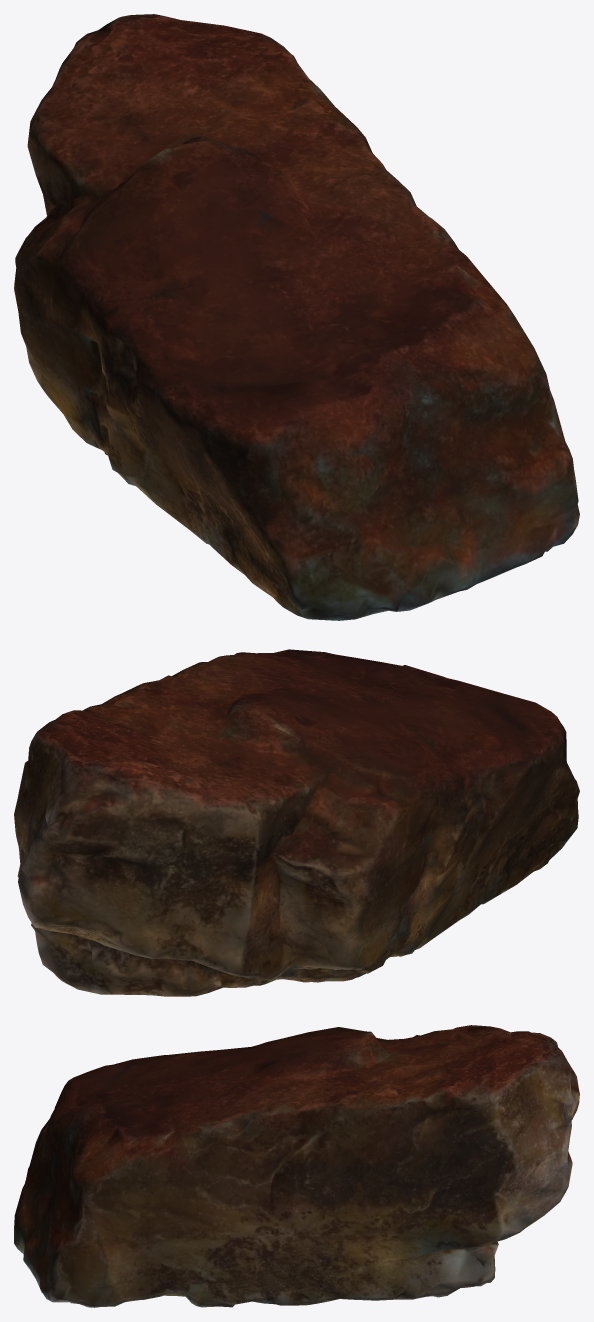
The model's file is rock_07_lod.glb.
The picture shows the model from 3 angles, top to bottom: view 1: azimuth 30°, elevation 25°; view 2: azimuth 150°, elevation 25°; view 3: azimuth 270°, elevation 25°; orthographic projection. The views are drawn at different scales.
Parts seen in each view (by area): view 1: rock_07; view 2: rock_07; view 3: rock_07.
Part boxes in pixels (<box>): rock_07: <box>14,14,579,620</box>; rock_07: <box>14,649,579,996</box>; rock_07: <box>14,1025,579,1307</box>.
Bounding box in the file's own units: 0.1686 × 0.1437 × 0.3199.
1 material, 1 textured.
